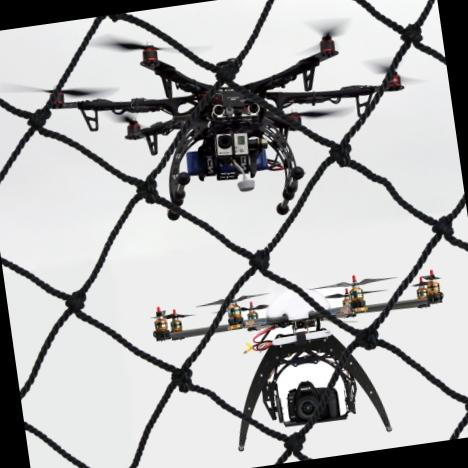drone: (0, 3, 432, 241), (132, 246, 458, 384)
